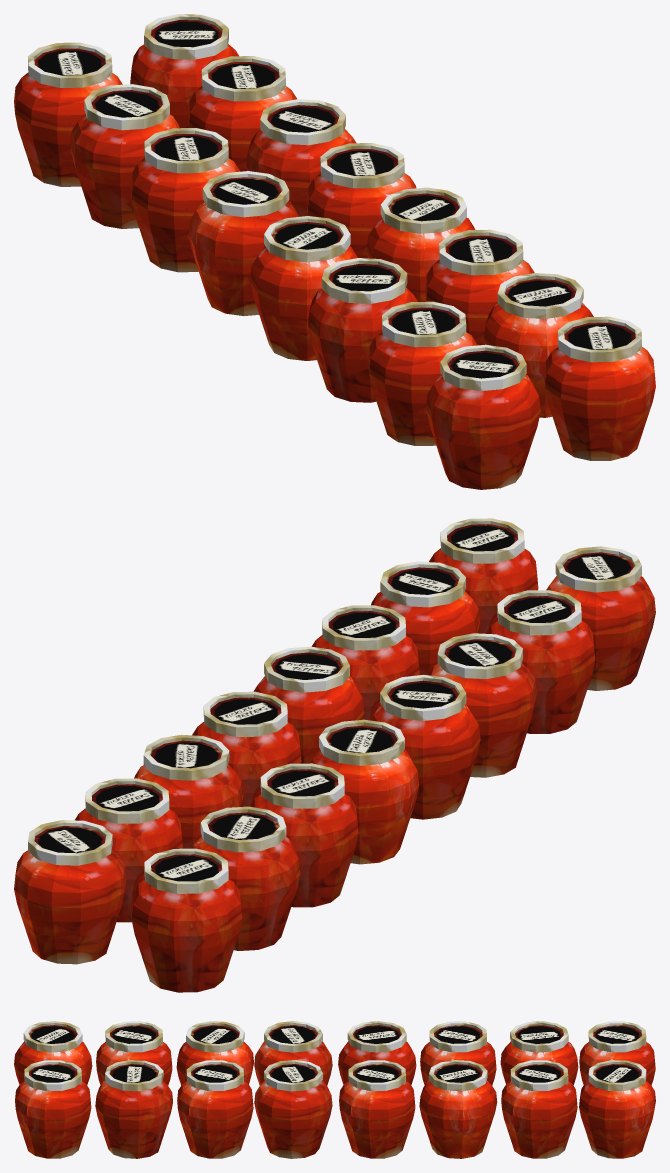
File: pickledpepperspile.fbx
3 renders of one model, top to bottom at view 1: azimuth 30°, elevation 25°; view 2: azimuth 150°, elevation 25°; view 3: azimuth 270°, elevation 25°, orthographic. The views are drawn at different scales.
Parts seen in each view (by area): view 1: PickledJar.017; view 2: PickledJar.017; view 3: PickledJar.017.
Boxes of the visible parts, left/top/right/bottom form: PickledJar.017: left=14, top=14, right=655, bottom=489; PickledJar.017: left=14, top=518, right=655, bottom=992; PickledJar.017: left=14, top=1021, right=655, bottom=1158.
Bounding box in the file's own units: 88.39 × 43.33 × 333.
